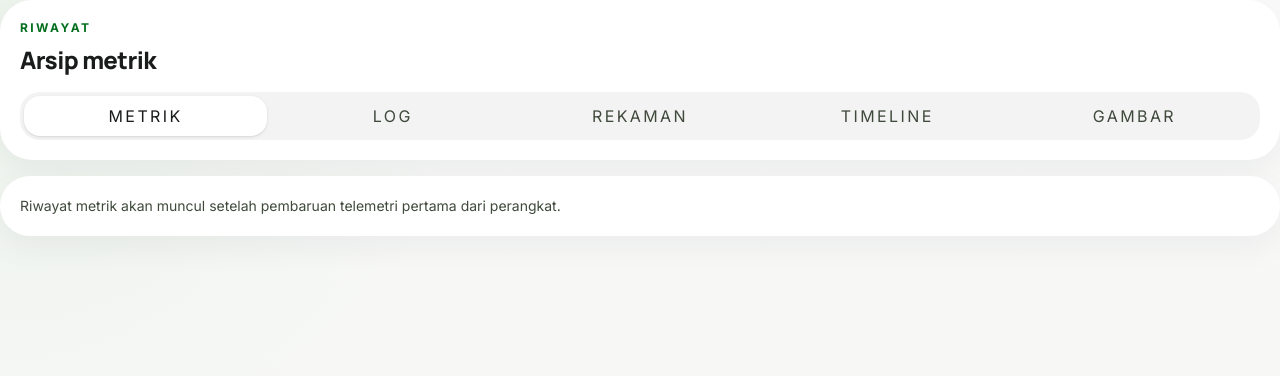
Test case: HistoryPanel › formatBytes › renders bytes label
The width and height of the screenshot is (1280, 376).
Click the button "Rekaman": (640, 116) [518, 96, 762, 136]
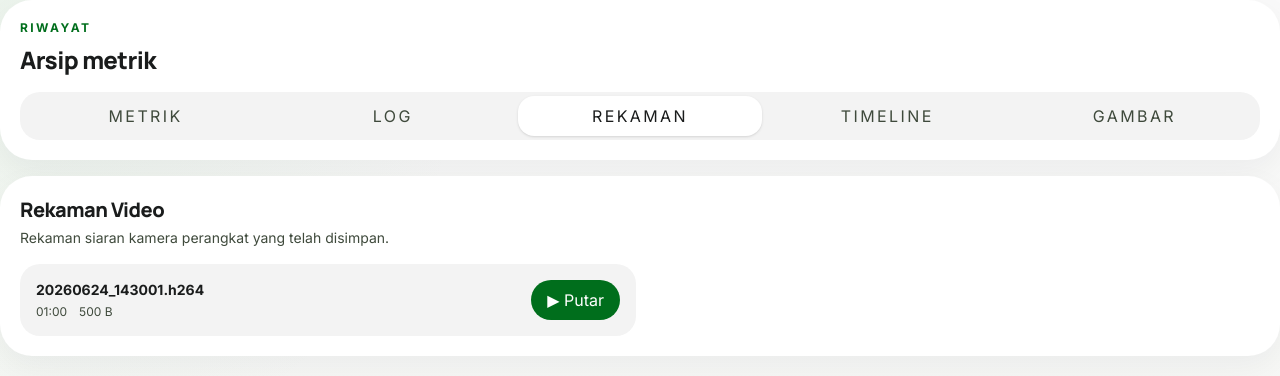
Check: the text "500 B" is shown, box [79, 304, 113, 320]
